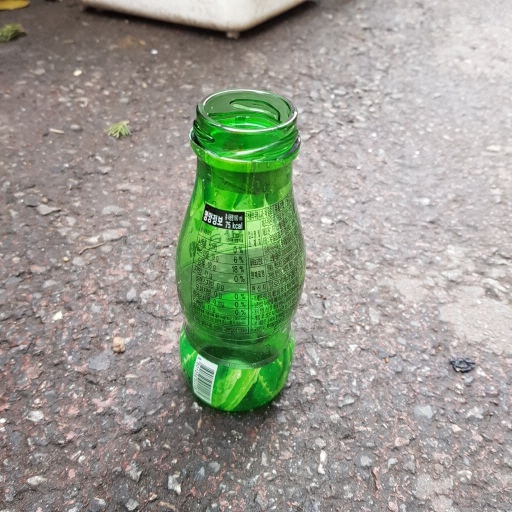Glass_4: (171, 89, 306, 415)
